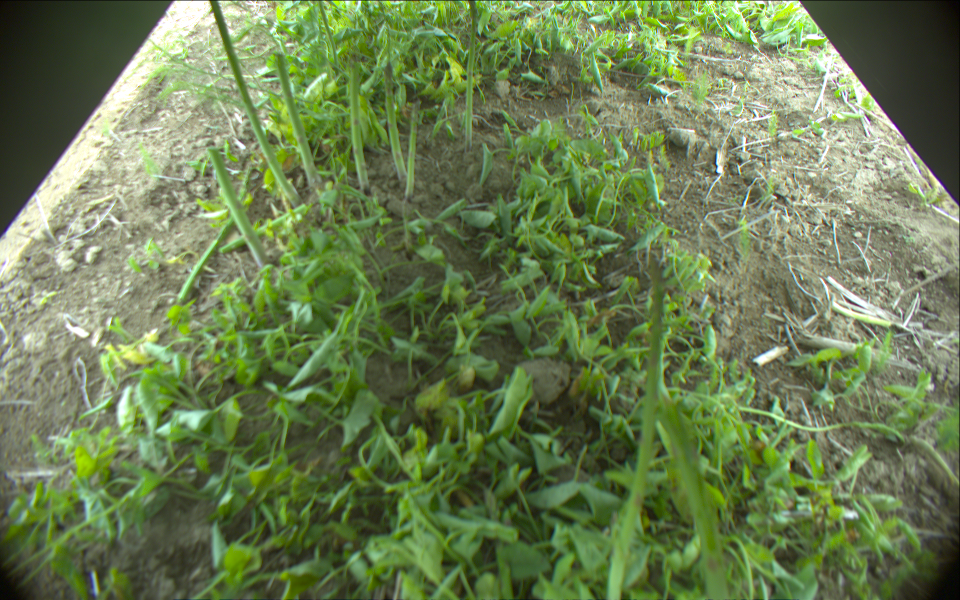aspa: (603, 249, 667, 600), (209, 1, 299, 209), (665, 398, 730, 600), (175, 159, 253, 308), (207, 147, 270, 276), (275, 51, 321, 193), (221, 204, 306, 254), (344, 60, 371, 192), (381, 64, 406, 180), (463, 1, 479, 147), (404, 102, 421, 200), (831, 302, 890, 326), (316, 1, 337, 66)
